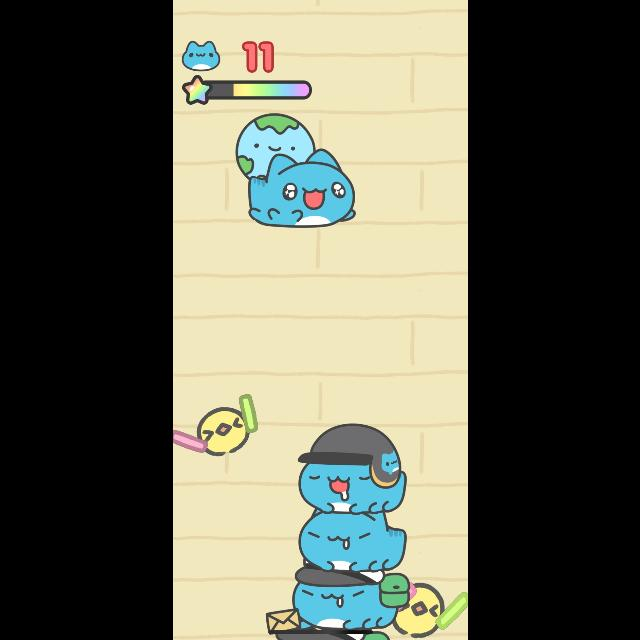capoo: (235, 112, 358, 235), (296, 422, 410, 514), (255, 571, 408, 629), (296, 512, 412, 574)
